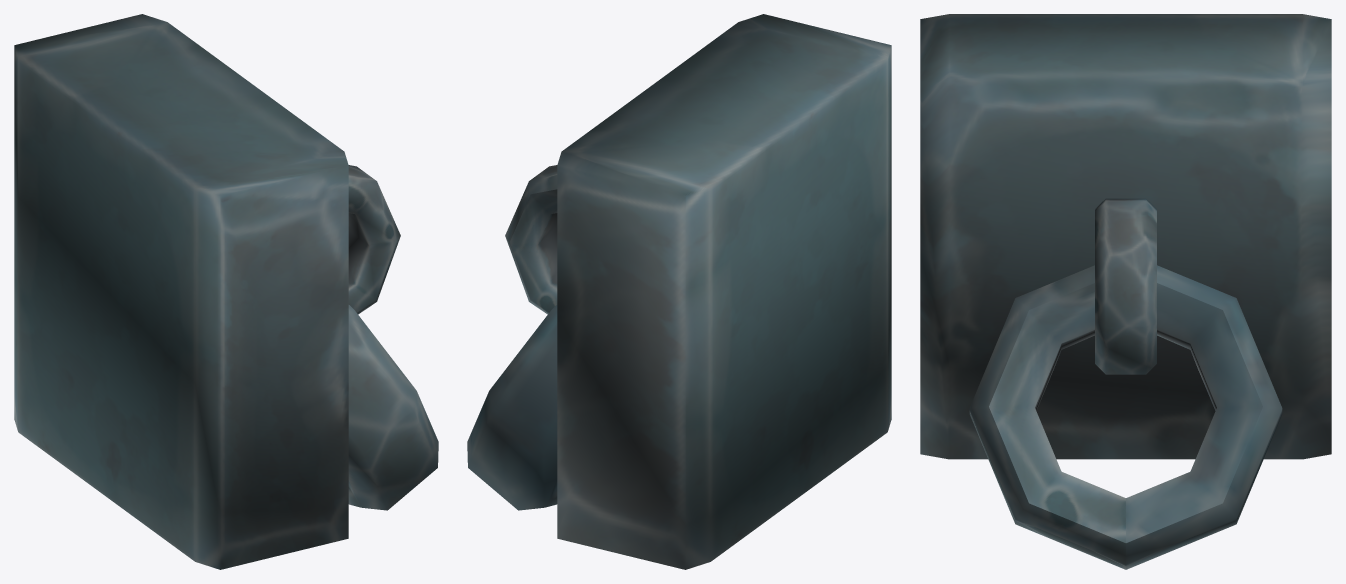
File: Metal_RingWall.fbx
3 views of the same model, side by side, from view 1: azimuth 30°, elevation 25°; view 2: azimuth 150°, elevation 25°; view 3: azimuth 270°, elevation 25° (orthographic).
Parts seen in each view (by area): view 1: Metal_LP.004; view 2: Metal_LP.004; view 3: Metal_LP.004.
Part boxes in pixels (bbox=[...]): Metal_LP.004: bbox=[14, 14, 438, 569]; Metal_LP.004: bbox=[467, 14, 891, 569]; Metal_LP.004: bbox=[920, 14, 1331, 569].
Size of the model in its own units: 253 by 351 by 300.
